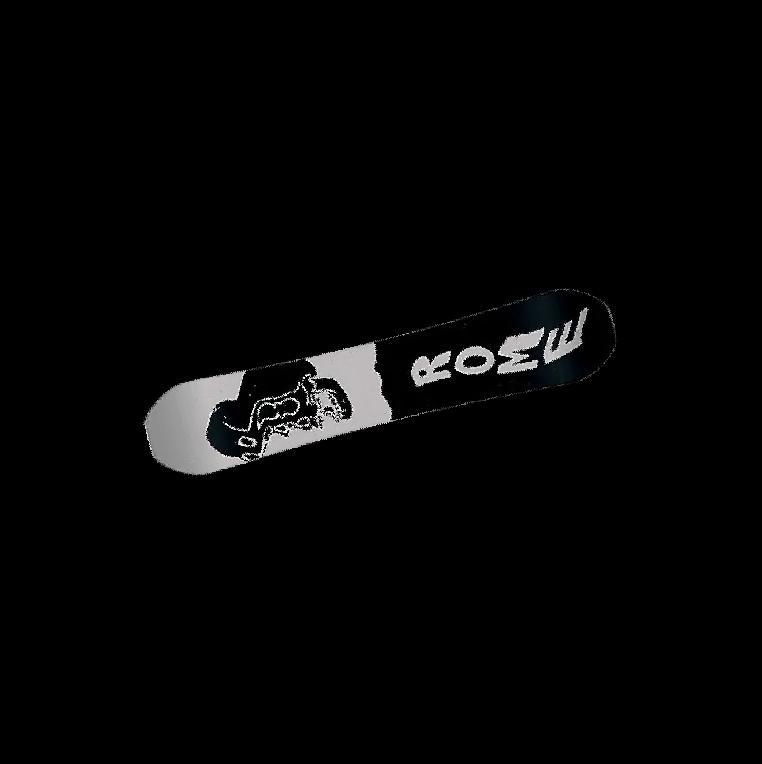Snowboard: (142, 286, 617, 477)
